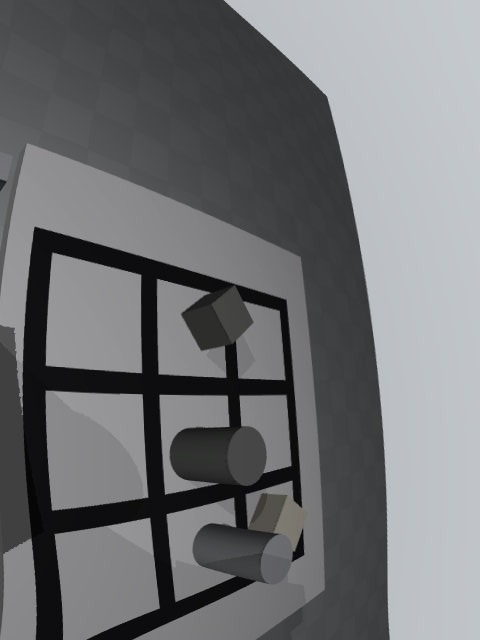can: (193, 523, 293, 584)
cube: (180, 286, 253, 350)
cylinder: (169, 426, 267, 486)
foam: (247, 493, 308, 552)
